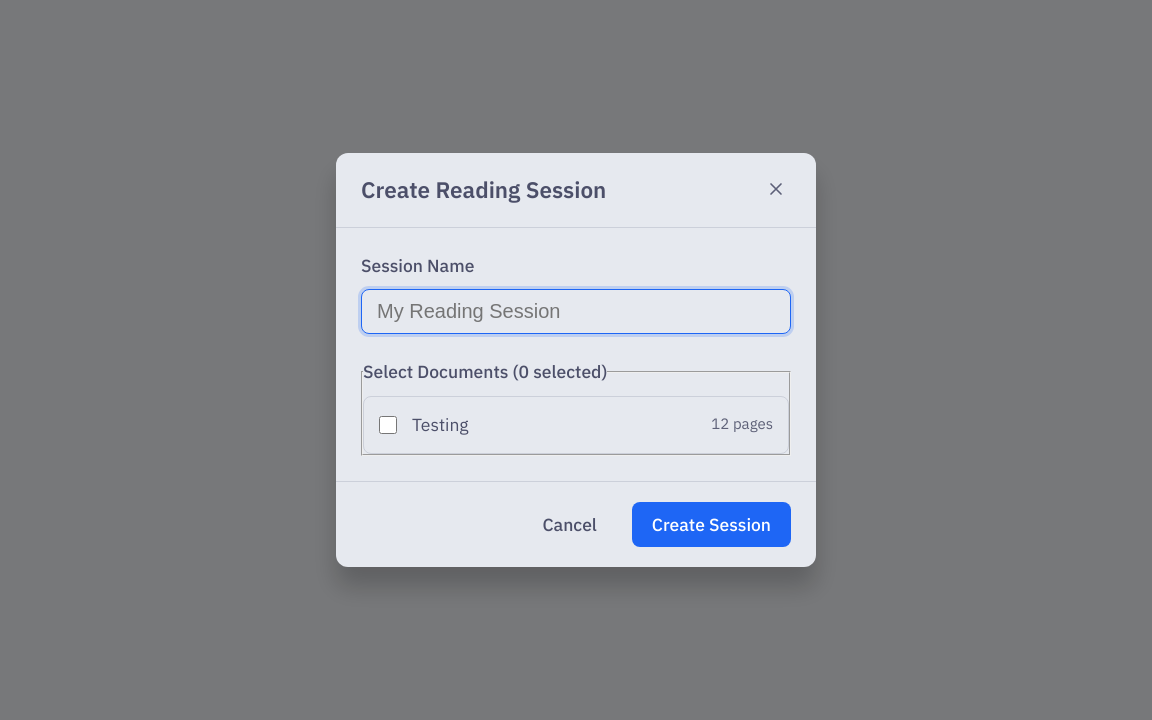
CreateSessionDialog › shows validation and creation errors
Click the button "Create Session". click: x=711, y=524
box: [632,502,791,547]
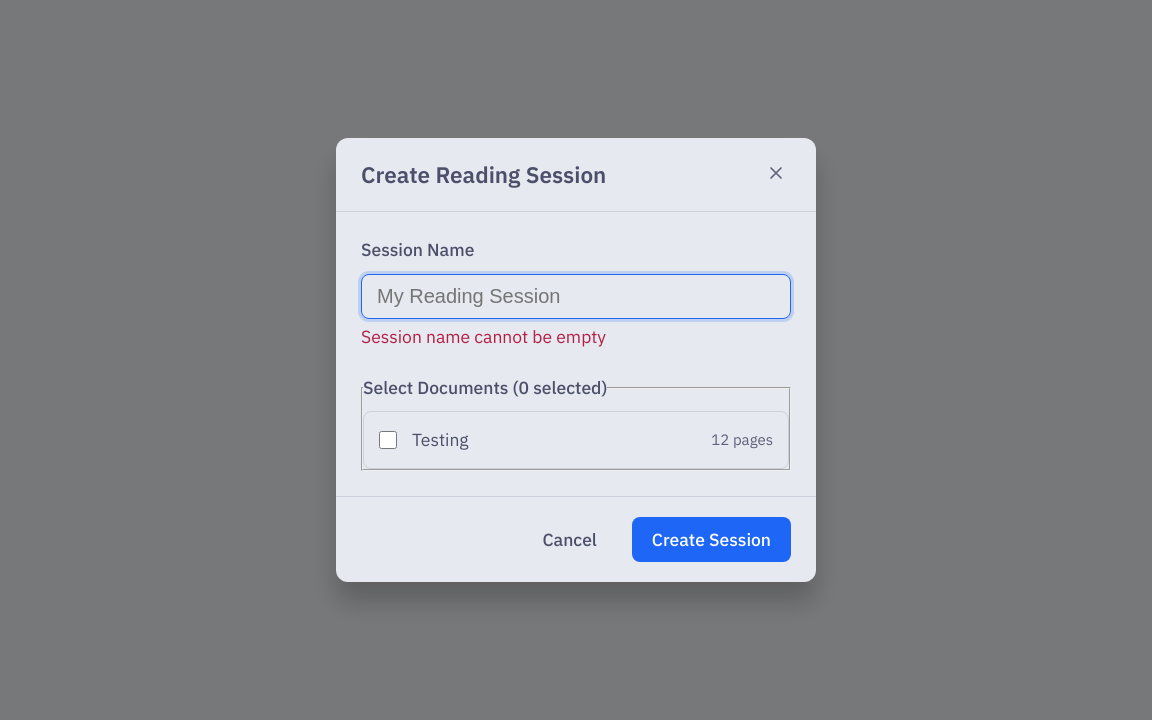
Now the text "Session name cannot be empty" is shown, box [361,325,606,348]
Type "Research" into the field labelled "Session Name". click: x=576, y=296
box: [361,274,791,319]
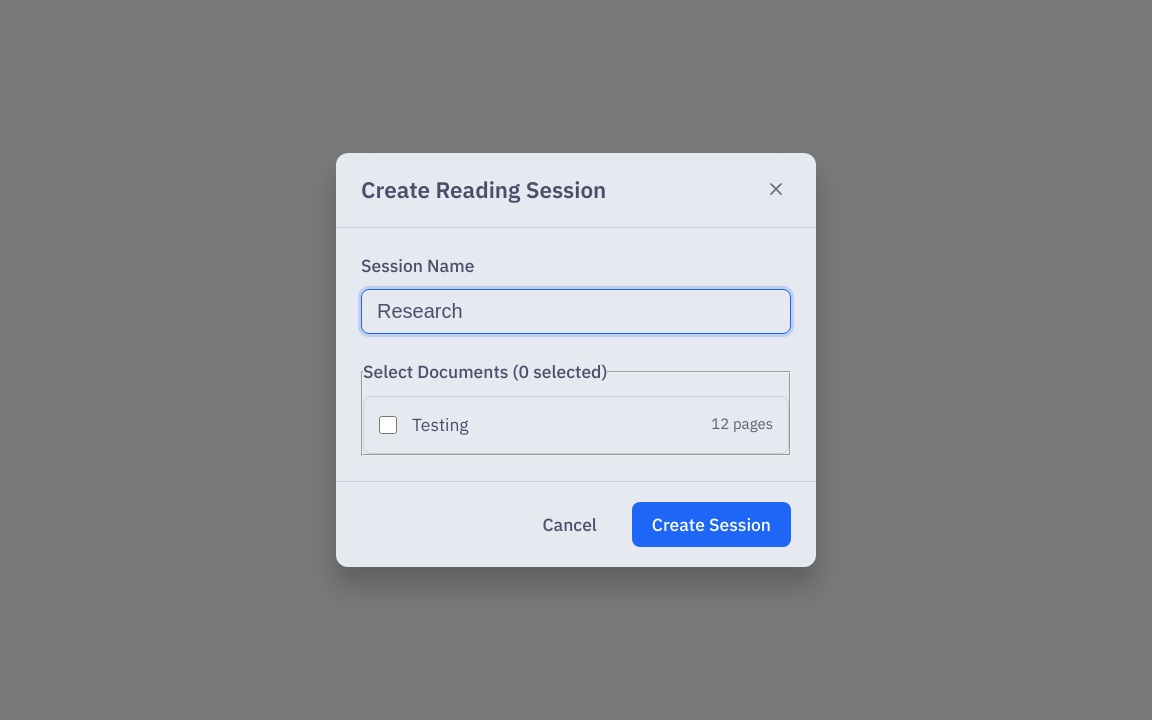
Click the button "Create Session". click: x=711, y=524
box: [632,502,791,547]
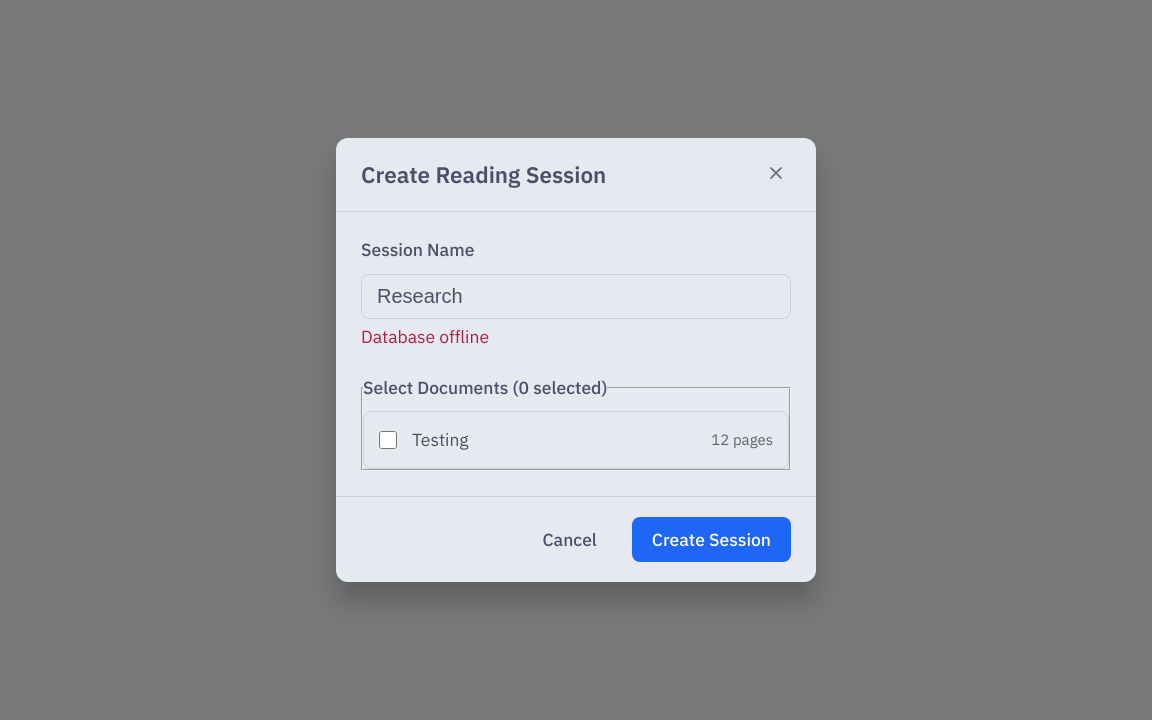
Now the text "Database offline" is shown, box [361,325,489,348]
